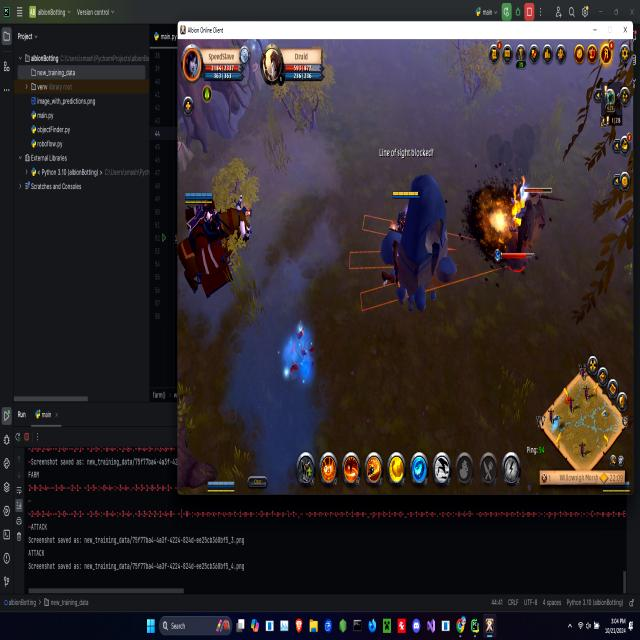red: (178, 178, 255, 310), (502, 175, 560, 276), (389, 184, 422, 264), (205, 475, 238, 494)
silver: (349, 214, 507, 317)
